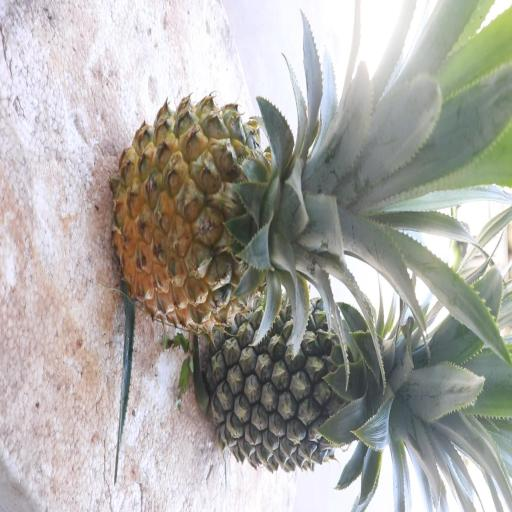Pineapple - v8 v1: (108, 89, 388, 336)
